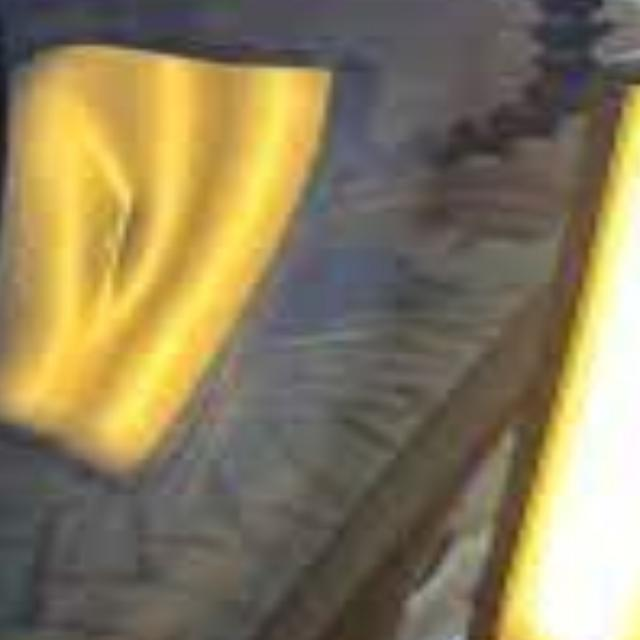dents: (93, 171, 174, 321)
